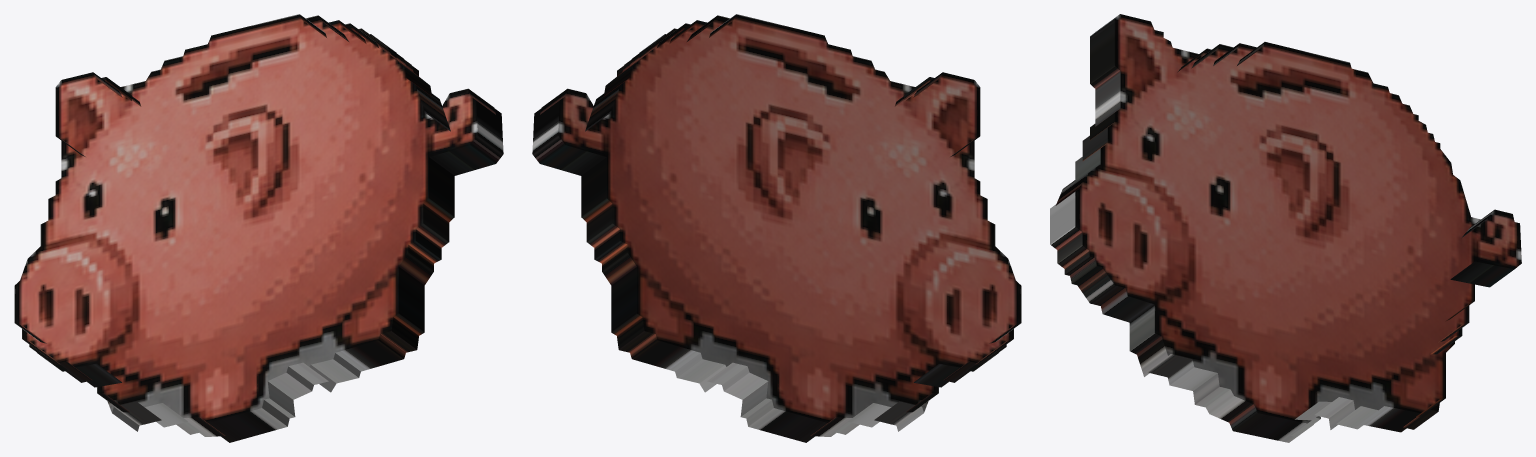
Rendered from piggy_bank.glb.
The picture shows the model from 3 angles, left to right: view 1: azimuth 30°, elevation 25°; view 2: azimuth 150°, elevation 25°; view 3: azimuth 330°, elevation 25°; orthographic projection. The views are drawn at different scales.
Parts seen in each view (by area): view 1: world; view 2: world; view 3: world.
Part boxes in pixels (bbox=[...]): world: bbox=[14, 14, 503, 442]; world: bbox=[532, 14, 1021, 442]; world: bbox=[1050, 14, 1521, 442].
Bounding box in the file's own units: 2.47 × 1.97 × 0.2376.
1 material, 1 textured.
